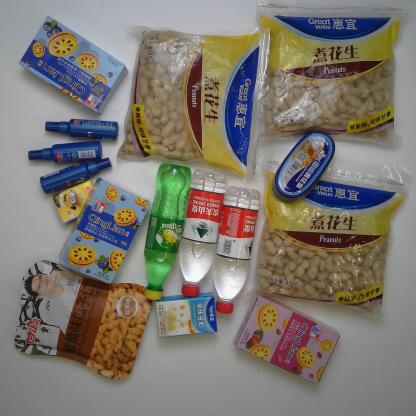Canned Food: (268, 128, 336, 206)
Dessert: (14, 13, 130, 118), (55, 174, 154, 286), (232, 292, 342, 386)
Dried Food: (243, 143, 413, 321), (112, 23, 274, 188), (248, 0, 410, 155)
Dried Fruit: (12, 257, 154, 384)
Drink: (141, 160, 193, 303), (176, 167, 230, 300), (211, 184, 262, 316)
Milk: (153, 290, 220, 342)
Personal Hygiene: (38, 156, 113, 196), (42, 116, 121, 143), (26, 140, 104, 165)
Tissue: (49, 177, 96, 226)
